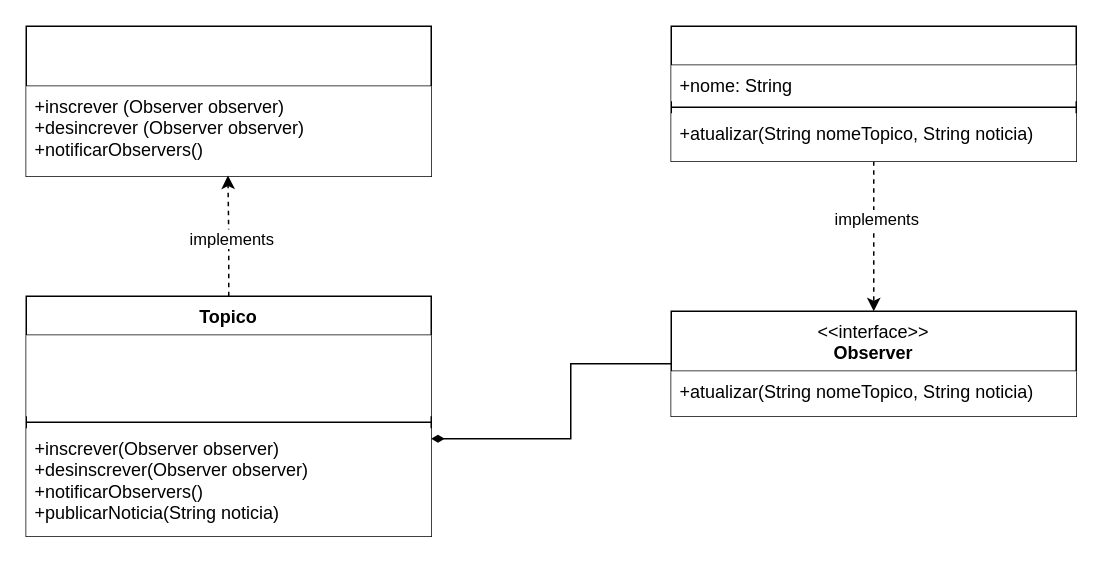
The diagram is 1103 pixels wide and 567 high, and some of its shapes have lost their labels. Here are the shapes that lost their labels. From the top down, the box of each, then its label:
(25, 25, 431, 176): <<interface>> Subject
(670, 25, 1076, 161): Leitor
(26, 334, 430, 416): -observers: List<Observer> -ultimaNoticia: String +nome: String
